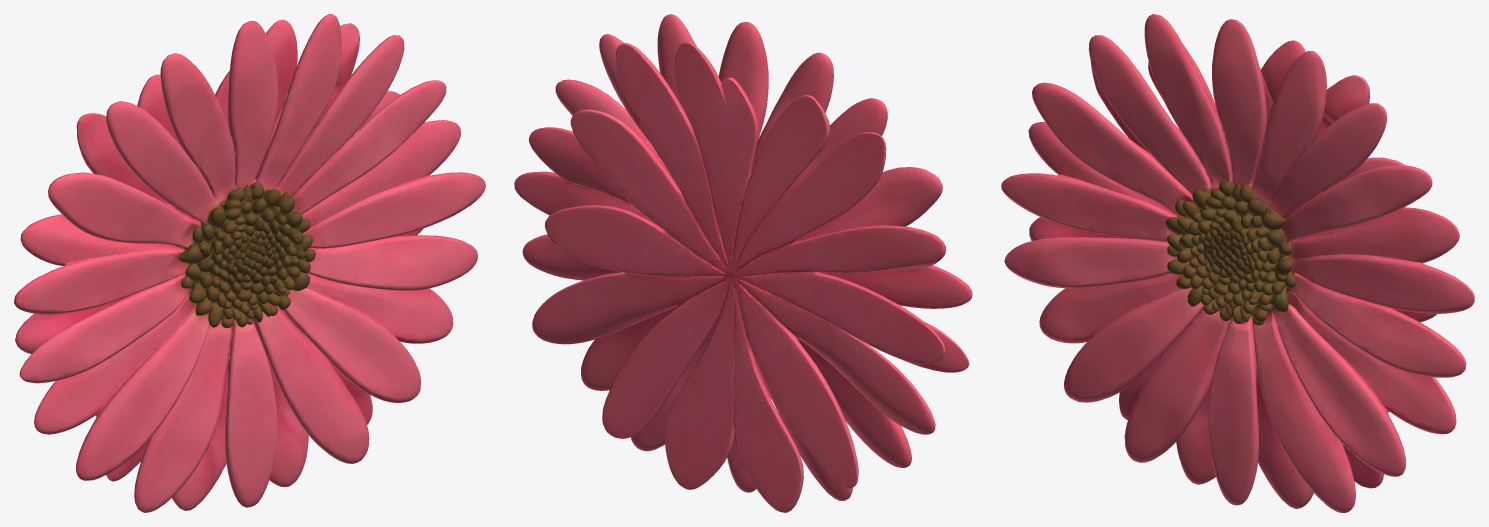
Rendered from pink_gerbera.glb.
3 views of the same model, side by side, from view 1: azimuth 30°, elevation 25°; view 2: azimuth 150°, elevation 25°; view 3: azimuth 330°, elevation 25° (orthographic). The views are drawn at different scales.
Parts seen in each view (by area): view 1: model; view 2: model; view 3: model.
Part boxes in pixels (x1,y1,x2,y2): model: [14, 14, 485, 512]; model: [514, 14, 972, 512]; model: [1001, 14, 1474, 512].
Bounding box in the file's own units: 1.9 × 1.87 × 0.1749.
Materials: 1 (1 with a texture image).
